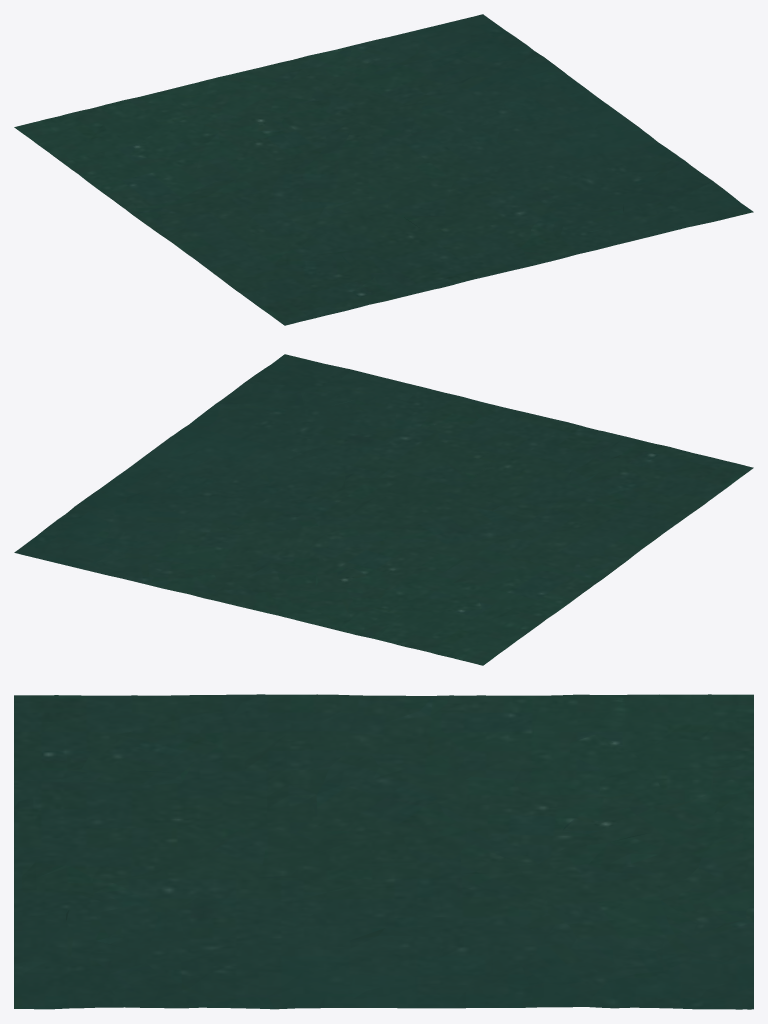
The picture shows the model from 3 angles, top to bottom: view 1: azimuth 30°, elevation 25°; view 2: azimuth 150°, elevation 25°; view 3: azimuth 270°, elevation 25°; orthographic projection. The views are drawn at different scales.
Bounding box in the file's own units: 104 × 0.6604 × 104.
Materials: 2 (2 with a texture image).
